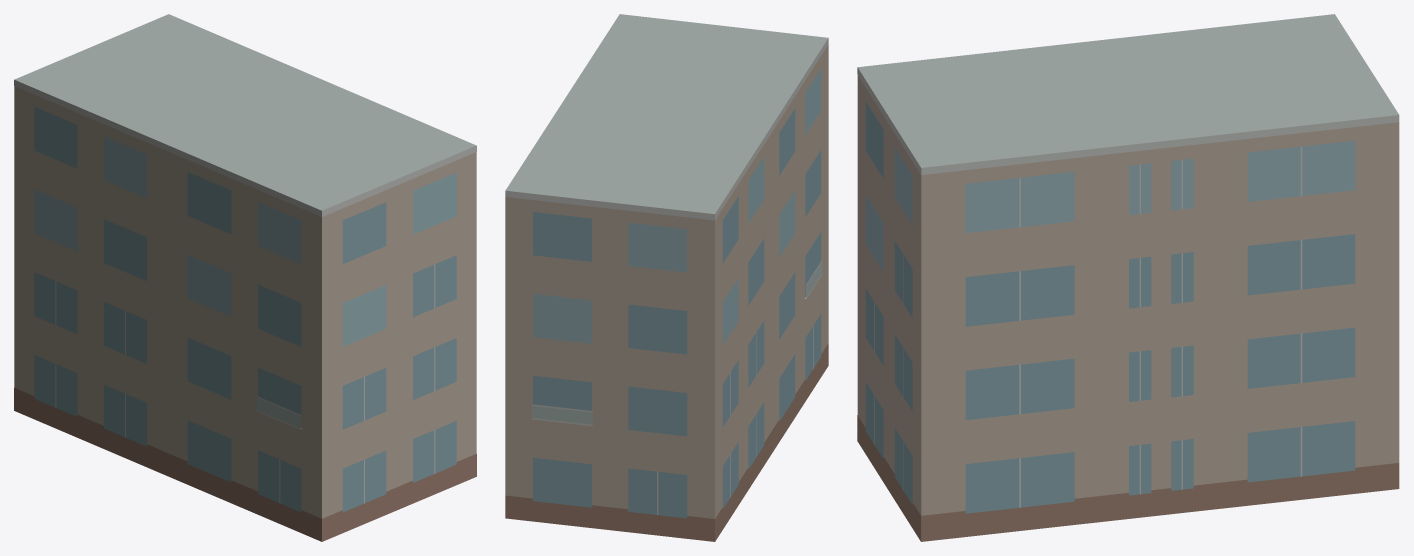
Rendered from survey-upis-32573373.glb.
3 views of the same model, side by side, from view 1: azimuth 30°, elevation 25°; view 2: azimuth 150°, elevation 25°; view 3: azimuth 270°, elevation 25° (orthographic). The views are drawn at different scales.
Parts seen in each view (by area): view 1: survey-upis-32573373.tmp; view 2: survey-upis-32573373.tmp; view 3: survey-upis-32573373.tmp.
Boxes of the visible parts, x1,y1,x2,y2 form: survey-upis-32573373.tmp: (14, 14, 476, 541); survey-upis-32573373.tmp: (505, 14, 828, 541); survey-upis-32573373.tmp: (857, 14, 1399, 541).
Bounding box in the file's own units: 11.31 × 12.8 × 16.82.
